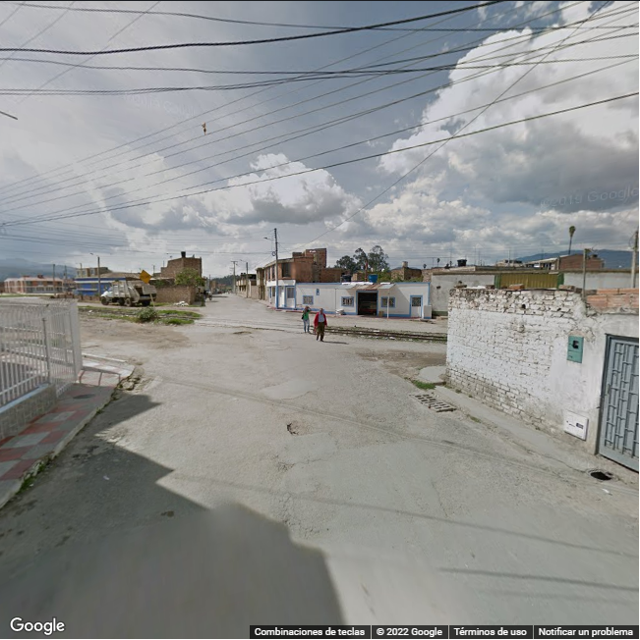D00: (424, 469, 457, 524)
D20: (269, 481, 347, 535)
D40: (282, 415, 313, 436)
